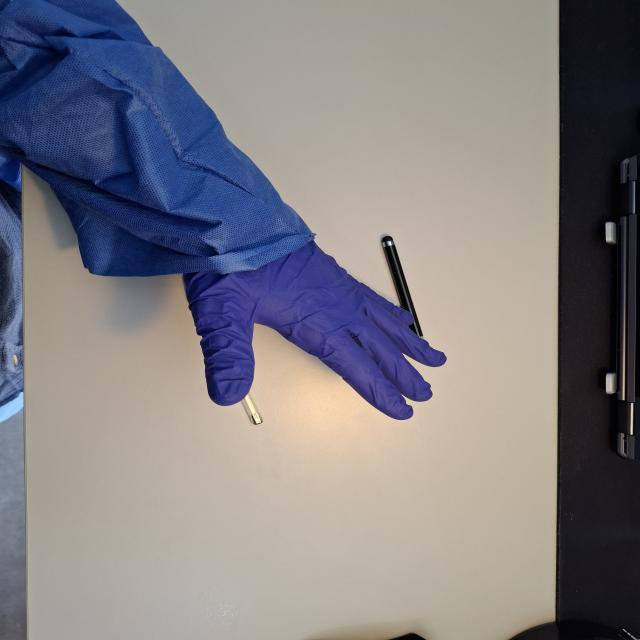glove_on: (176, 227, 451, 422)
